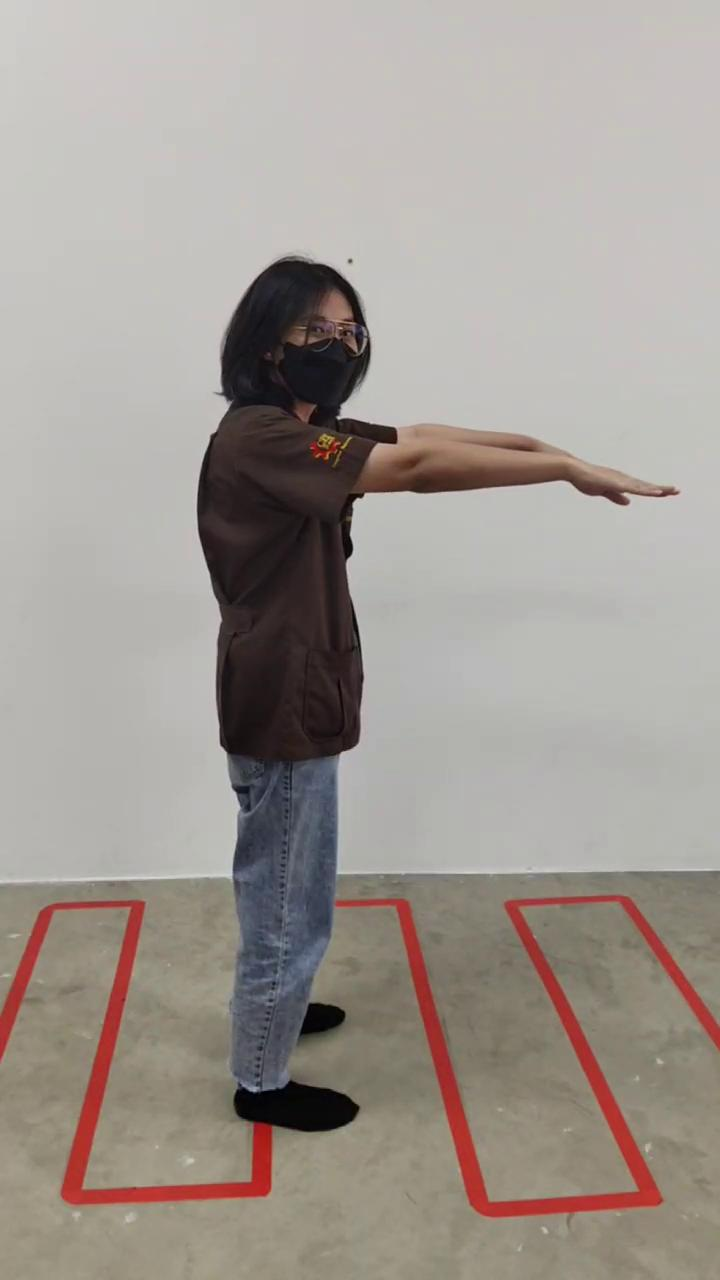squat up: (197, 258, 663, 1134)
